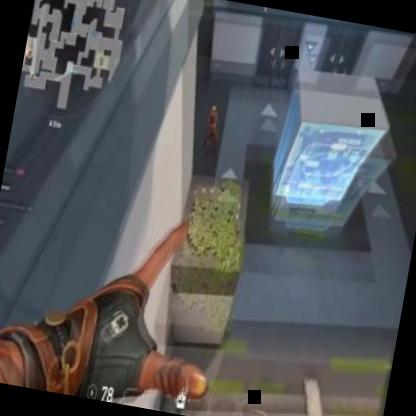enemy: (198, 100, 223, 152)
enemy_head: (210, 105, 216, 116)
